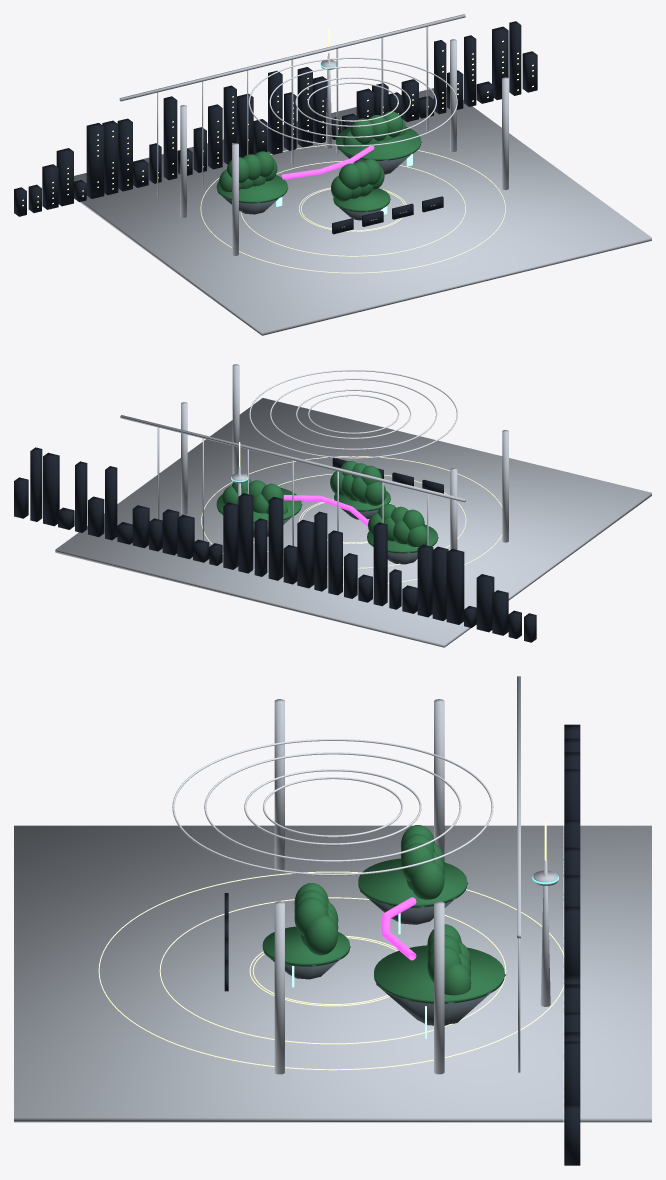
File: staarverse.glb
The picture shows the model from 3 angles, top to bottom: view 1: azimuth 30°, elevation 25°; view 2: azimuth 150°, elevation 25°; view 3: azimuth 270°, elevation 25°; orthographic projection. The views are drawn at different scales.
Visible parts, largest first — view 1: Reflective floor, Window lintel, Floating garden.001, Toronto skyline.005, Toronto skyline.010, Toronto skyline.017, Toronto skyline.019, Toronto skyline.006, Toronto skyline.007, Toronto skyline.032, Floating garden, Toronto skyline.014 (+25 smaller); view 2: Reflective floor, Window lintel, Toronto skyline.005, Toronto skyline.017, Toronto skyline.019, Toronto skyline.010, Toronto skyline.015, Toronto skyline.032, Toronto skyline.007, Toronto skyline.006, Toronto skyline.014, Toronto skyline.020 (+29 smaller); view 3: Reflective floor, Floating garden.001, Floating garden, Ceiling light ring.003, Chrome column.002, Chrome column.003, Chrome column, Floating garden.002, Ceiling light ring.002, Chrome column.001, Architectural floor inlay.003, Floating island rock.001 (+16 smaller).
Boxes of the visible parts, x1,y1,x2,y2 form: Reflective floor: (74,87,651,335); Window lintel: (119,14,465,101); Floating garden.001: (336,127,420,160); Toronto skyline.005: (86,123,104,198); Toronto skyline.010: (163,96,177,180); Toronto skyline.017: (268,70,282,154); Toronto skyline.019: (297,67,312,147); Toronto skyline.006: (102,120,118,195); Toronto skyline.007: (117,118,132,191); Toronto skyline.032: (492,26,508,99); Floating garden: (216,175,287,203); Toronto skyline.014: (223,85,236,164); Reflective floor: (55,398,651,647); Window lintel: (120,415,465,502); Toronto skyline.005: (446,549,464,624); Toronto skyline.017: (268,497,283,580); Toronto skyline.019: (238,493,253,573); Toronto skyline.010: (373,522,387,606); Toronto skyline.015: (297,519,314,588); Toronto skyline.032: (43,452,59,526); Toronto skyline.007: (417,544,433,617); Toronto skyline.006: (432,546,448,620); Toronto skyline.014: (314,511,327,591); Toronto skyline.020: (223,502,238,569); Reflective floor: (14,825,651,1122); Floating garden.001: (374,945,504,1003); Floating garden: (358,858,467,907); Ceiling light ring.003: (172,739,493,875); Chrome column.002: (274,901,284,1074); Chrome column.003: (434,901,444,1074); Chrome column: (274,699,284,872); Floating garden.002: (262,926,349,966); Ceiling light ring.002: (204,752,461,862); Chrome column.001: (434,699,444,860); Architectural floor inlay.003: (98,871,564,1070); Floating island rock.001: (376,973,505,1025).
Size of the model in its own units: 34.58 by 9.81 by 24.
